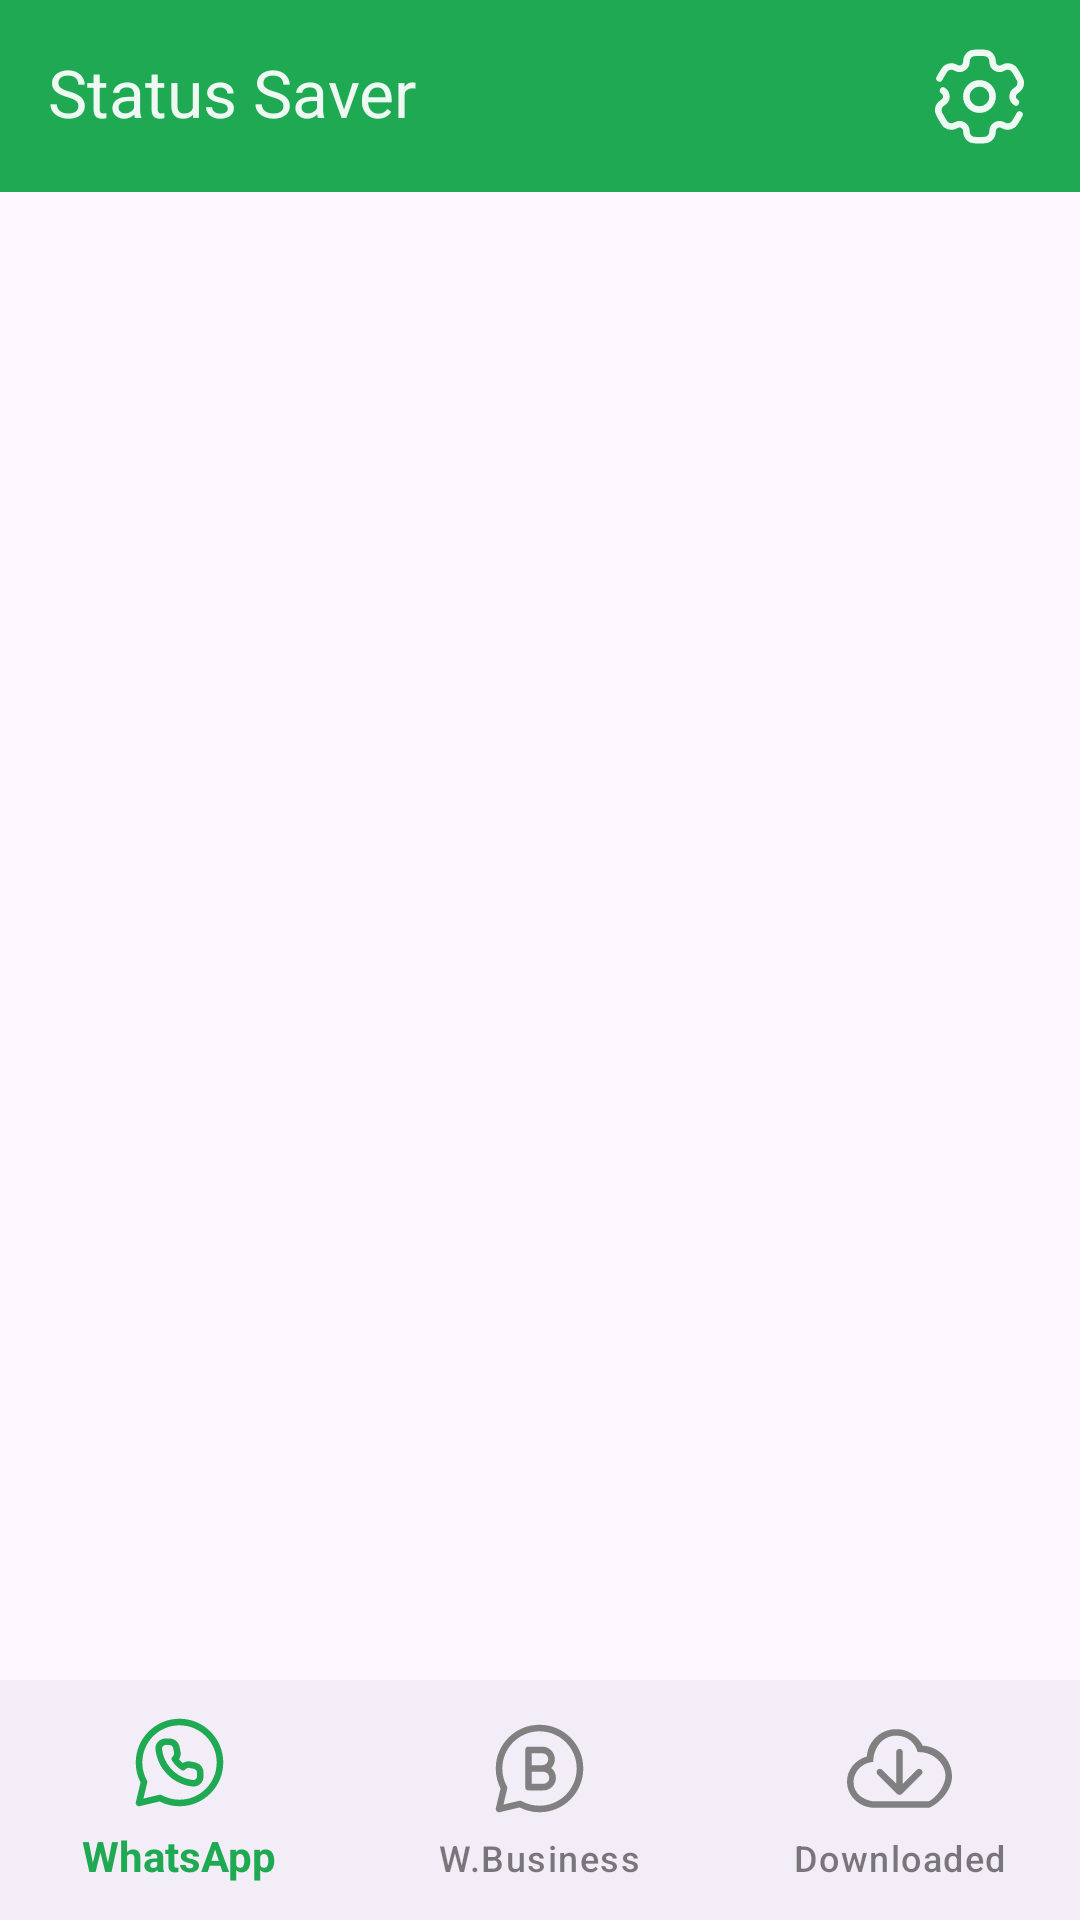

Icons on this 1080*1920 Android screen, each with the point to tap as (x,y):
settings: (979,96)
